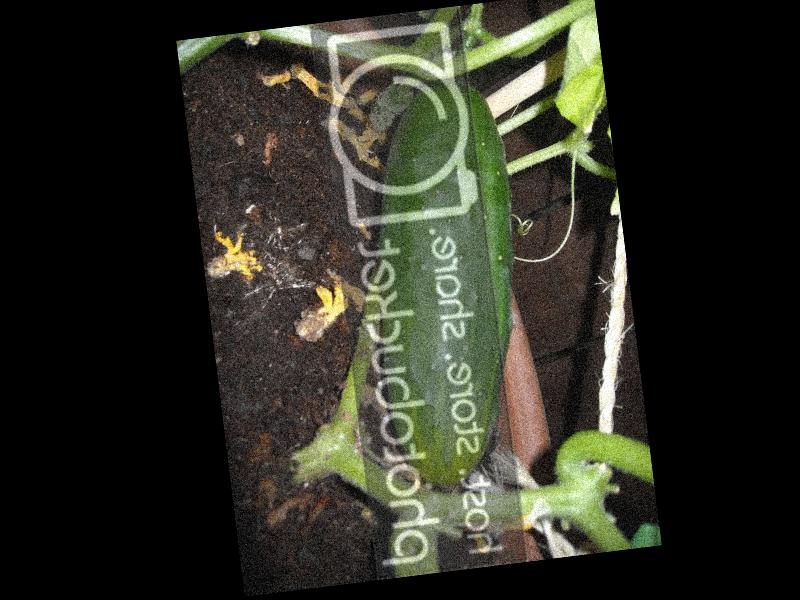Cucumber: (347, 76, 543, 491)
